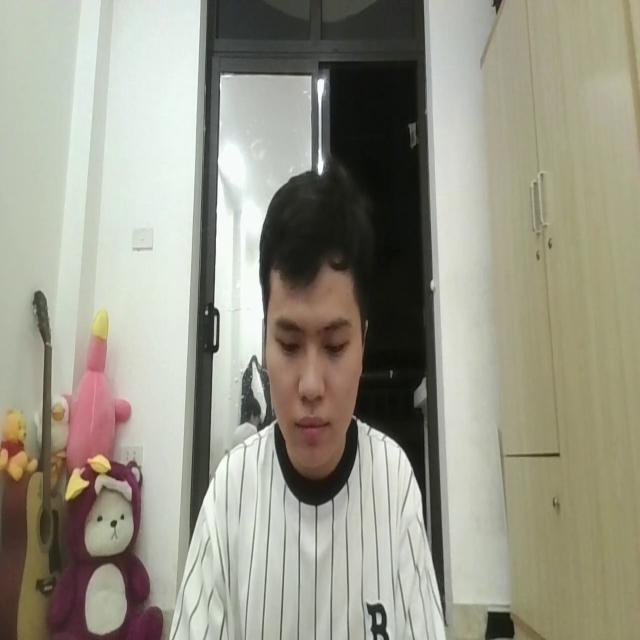student: (166, 173, 446, 640)
